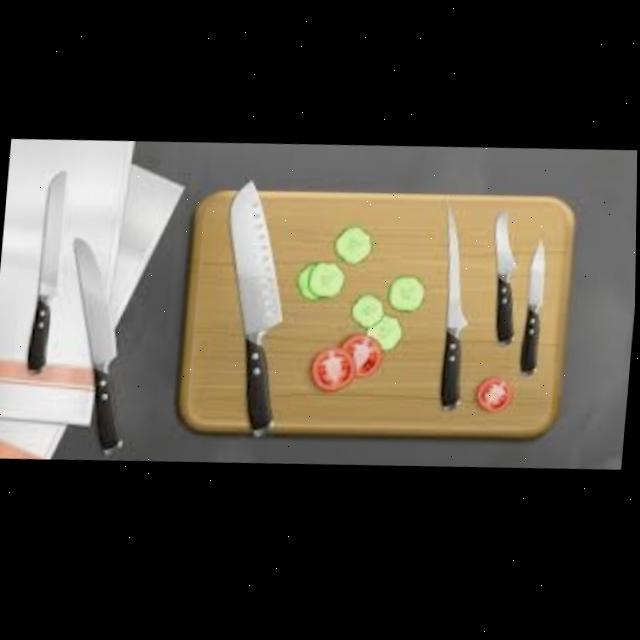Knife: (211, 177, 294, 441), (54, 233, 139, 459), (430, 207, 477, 416), (25, 167, 66, 373), (485, 213, 525, 352), (518, 242, 547, 381)
